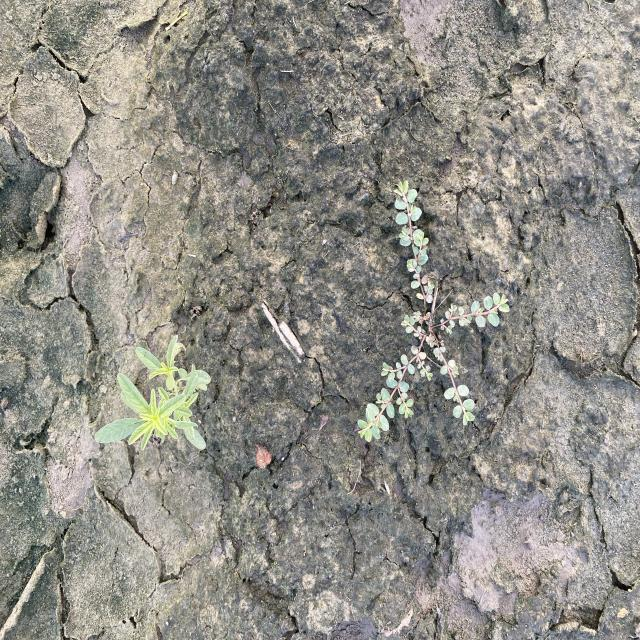SpottedSpurge: (356, 178, 508, 444)
Waterhemp: (93, 333, 212, 452)
